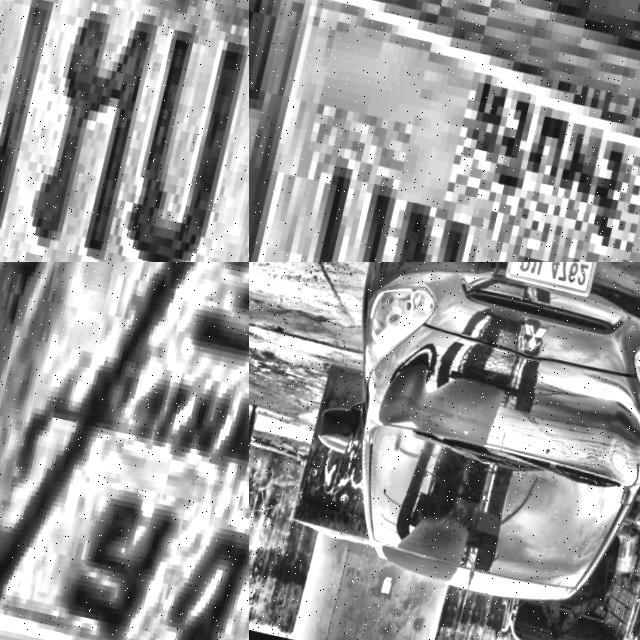license-plate: (249, 0, 640, 262), (0, 262, 249, 640), (0, 0, 249, 262), (503, 262, 606, 296)
